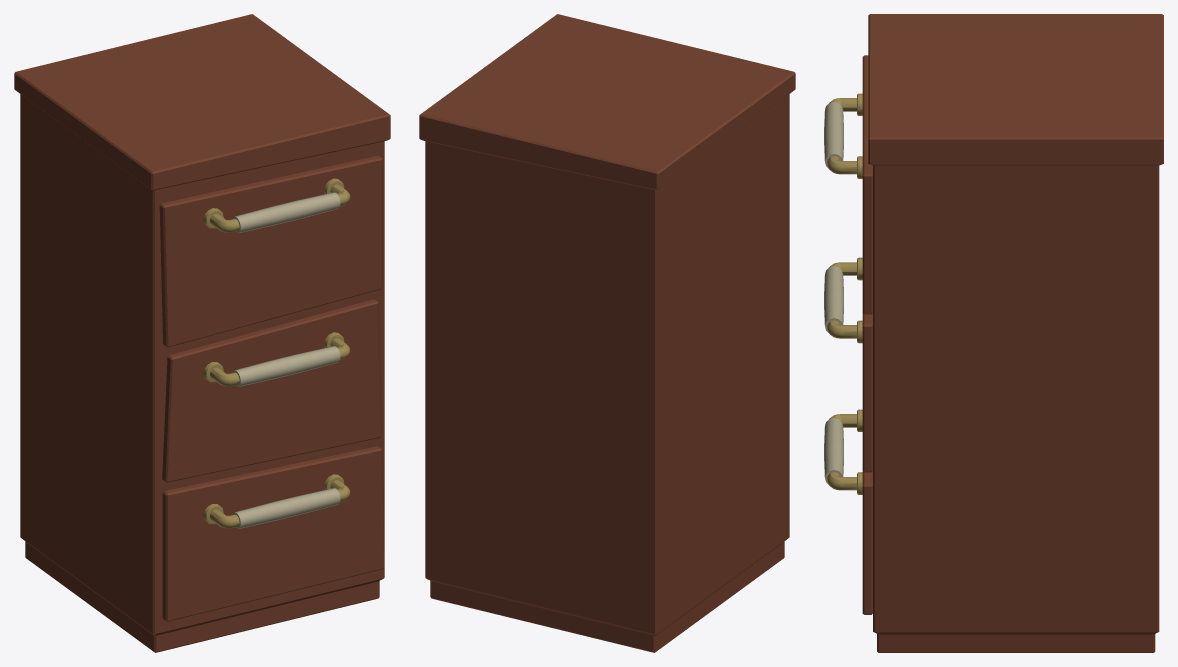
Rendered from Storage.glb.
3 views of the same model, side by side, from view 1: azimuth 30°, elevation 25°; view 2: azimuth 150°, elevation 25°; view 3: azimuth 270°, elevation 25° (orthographic). The views are drawn at different scales.
Visible parts, largest first — view 1: Storage; view 2: Storage; view 3: Storage.
Part boxes in pixels (box(x1,y1,x2,y2)): Storage: box(14, 14, 390, 652); Storage: box(419, 14, 795, 652); Storage: box(824, 14, 1163, 652).
Size of the model in its own units: 0.5161 by 1 by 0.5934.
Materials: 1 (1 with a texture image).
